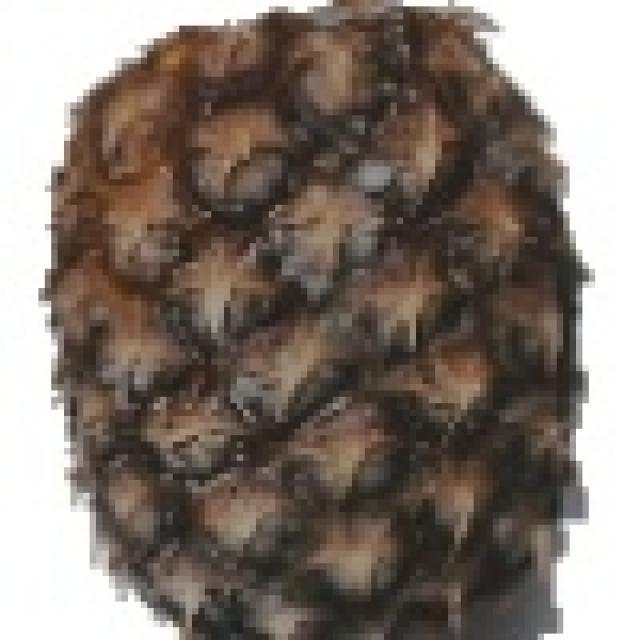pineapple: (44, 0, 585, 640)
